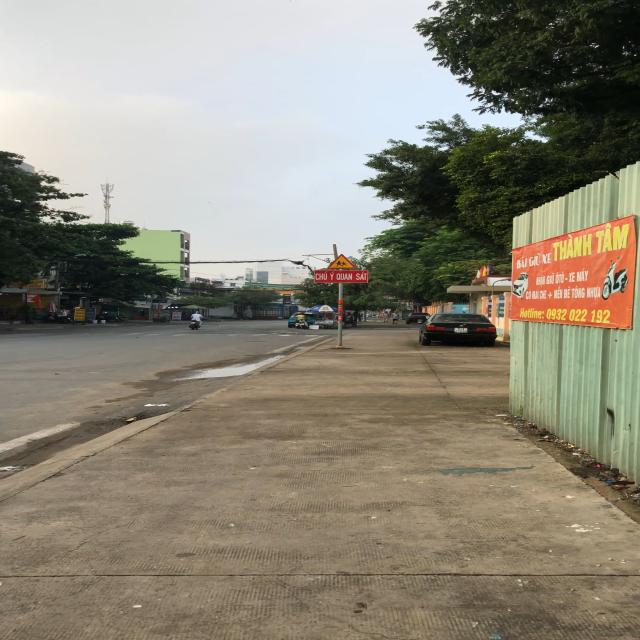Bien bao tre em: (326, 253, 358, 270)
